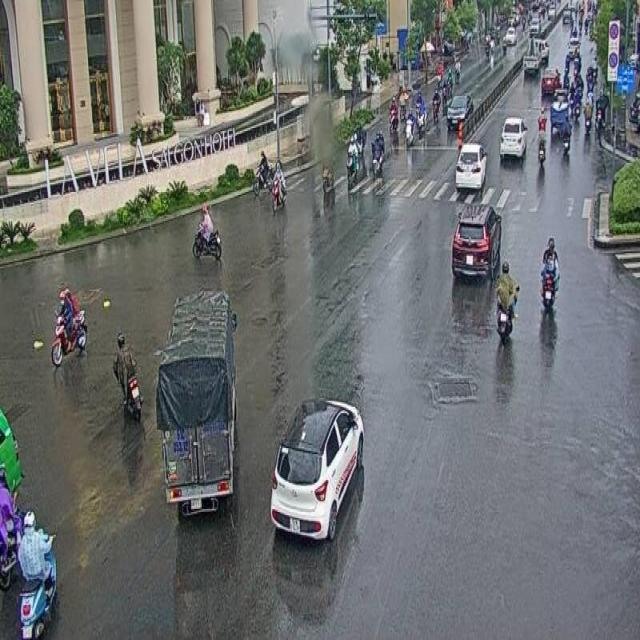car: (271, 396, 366, 555), (452, 203, 503, 280), (454, 140, 488, 195), (499, 113, 526, 157)
motorcycle: (16, 504, 60, 640), (113, 332, 143, 421), (52, 285, 86, 363), (495, 260, 519, 343), (192, 203, 222, 265), (254, 148, 272, 195), (272, 158, 287, 210)
truck: (157, 286, 236, 520)
